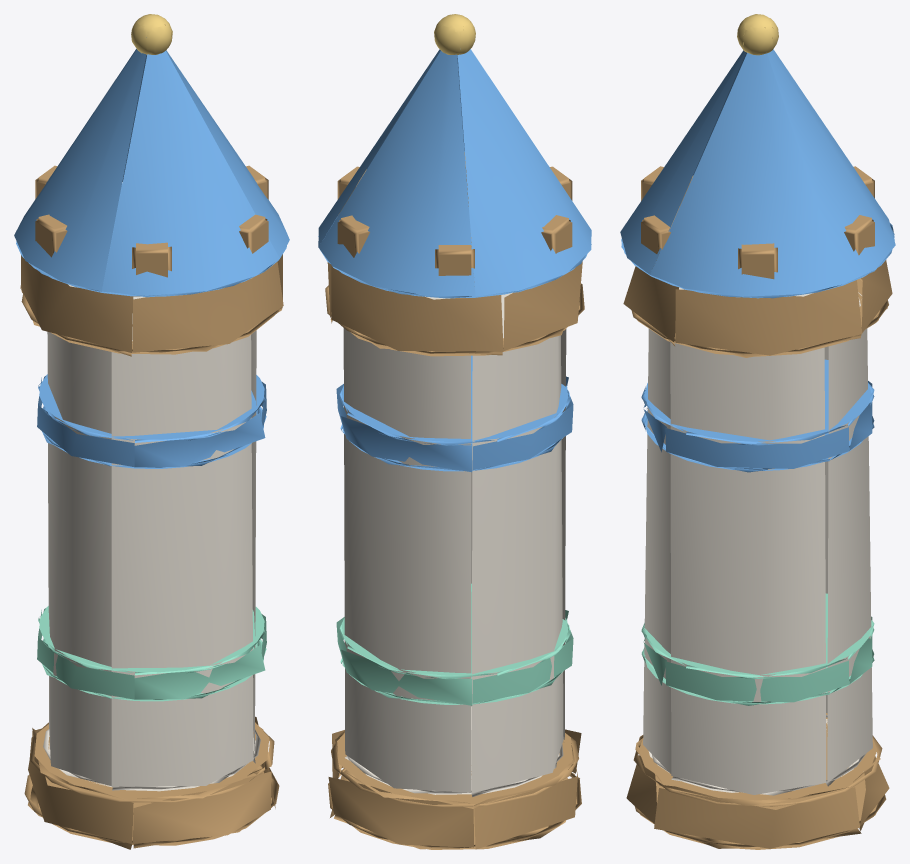
The model's file is castle_tower_blue.glb.
3 views of the same model, side by side, from view 1: azimuth 30°, elevation 25°; view 2: azimuth 150°, elevation 25°; view 3: azimuth 270°, elevation 25° (orthographic).
Visible parts, largest first — view 1: Body, Roof, Base, TopGallery, Band_4.5, Band_1.8, Finial, Tooth_4, Tooth_3, Tooth_5; view 2: Body, Roof, Base, TopGallery, Band_4.5, Band_1.8, Finial, Tooth_2, Tooth_1, Tooth_3; view 3: Body, Roof, Base, TopGallery, Band_4.5, Band_1.8, Finial, Tooth_0, Tooth_1, Tooth_5.
Part boxes in pixels (box(x1,y1,x2,y2)): Body: box(43, 284, 260, 791); Roof: box(14, 37, 289, 297); Base: box(24, 716, 279, 849); TopGallery: box(20, 254, 283, 356); Band_4.5: box(37, 374, 266, 468); Band_1.8: box(37, 606, 266, 701); Finial: box(131, 14, 172, 54); Tooth_4: box(132, 242, 171, 277); Tooth_3: box(35, 214, 67, 257); Tooth_5: box(239, 214, 268, 253); Body: box(343, 292, 566, 796); Roof: box(318, 49, 591, 298); Base: box(328, 729, 581, 849); TopGallery: box(325, 261, 584, 356); Band_4.5: box(336, 355, 573, 472); Band_1.8: box(336, 583, 573, 705); Finial: box(434, 14, 475, 55); Tooth_2: box(435, 237, 474, 275); Tooth_1: box(337, 215, 369, 257); Tooth_3: box(541, 215, 572, 253); Body: box(643, 287, 872, 795); Roof: box(620, 49, 895, 298); Base: box(626, 713, 889, 849); TopGallery: box(623, 260, 892, 357); Band_4.5: box(641, 359, 874, 472); Band_1.8: box(641, 593, 874, 705); Finial: box(737, 14, 778, 55); Tooth_0: box(738, 243, 777, 279); Tooth_1: box(844, 215, 874, 255); Tooth_5: box(641, 211, 677, 260).
Size of the model in its own units: 2.89 by 9.04 by 2.89.
